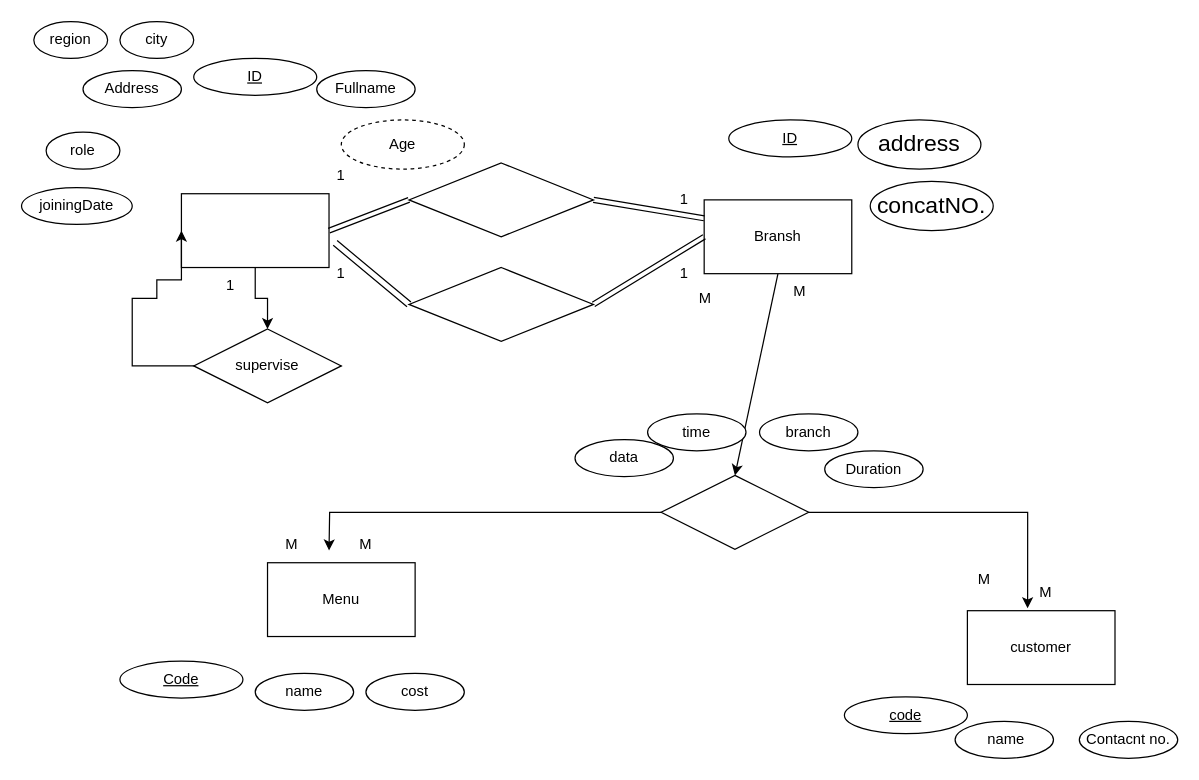
Image size: 1199x780. Some labels were removed from this diagram. Each missing label, with the box of its shape:
belong: (408, 266, 593, 341)
manage: (408, 162, 593, 237)
perform: (660, 474, 809, 549)
staff: (180, 192, 329, 268)
